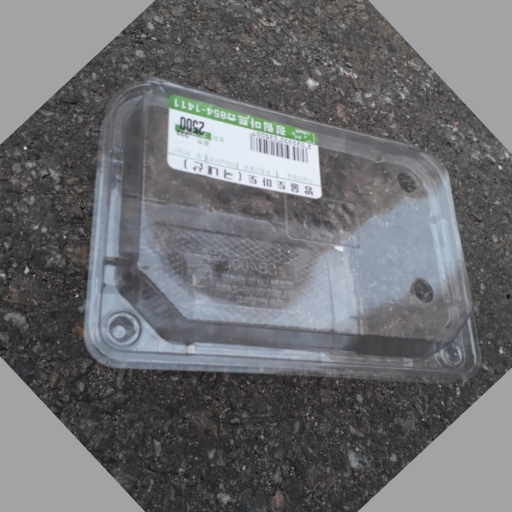Plastic_4: (83, 78, 480, 384)
